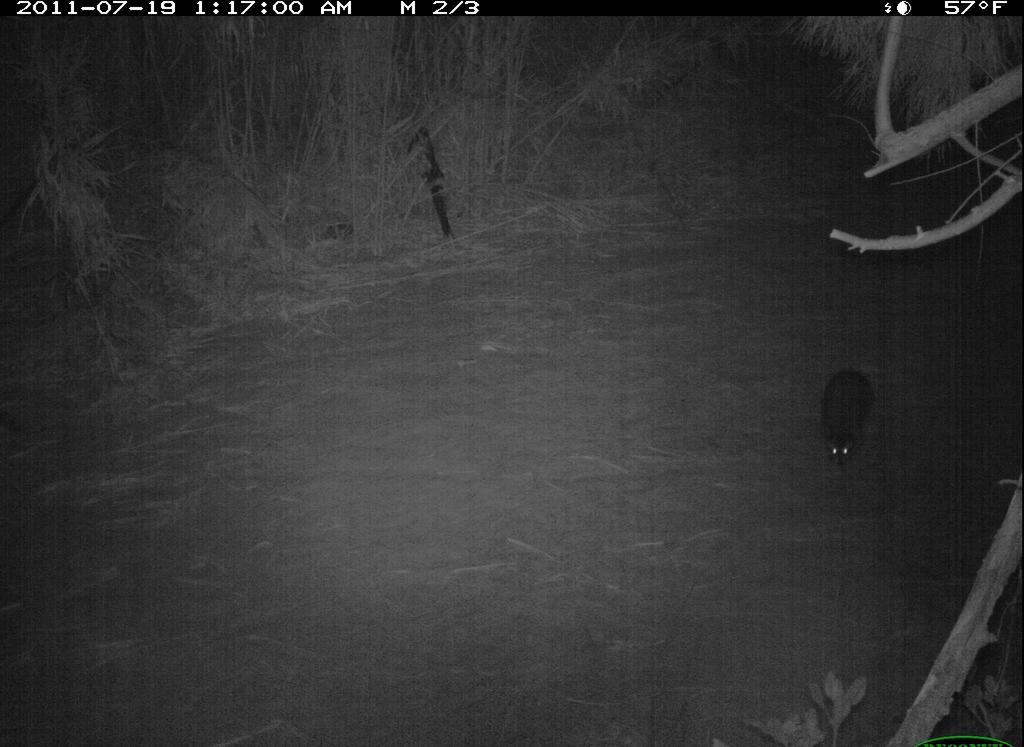raccoon: (813, 359, 894, 484)
